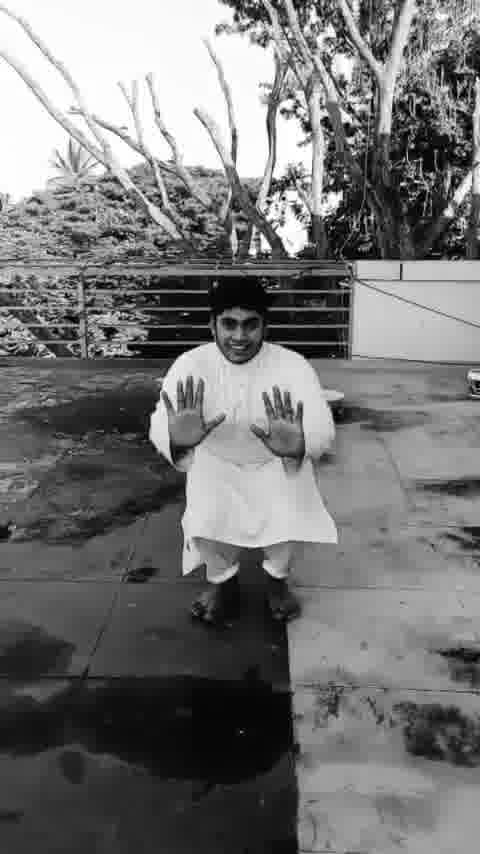duck: (130, 282, 371, 626)
